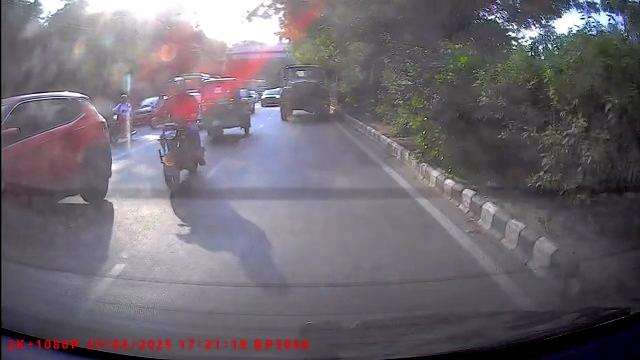motorcycle_with_helmet: (151, 77, 208, 189)
